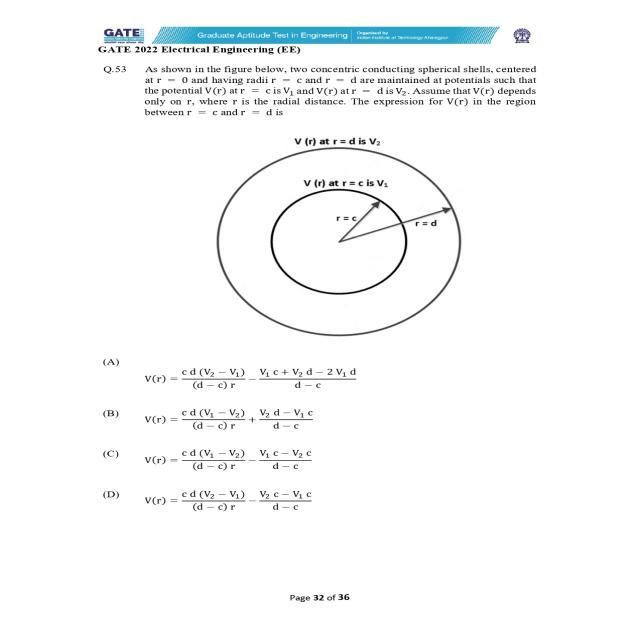Answer_Block: (43, 353, 596, 559)
Question_Answer_Block: (43, 61, 596, 558)
Question_Block: (43, 61, 596, 349)
Question_Paper_Area: (43, 61, 596, 558)
